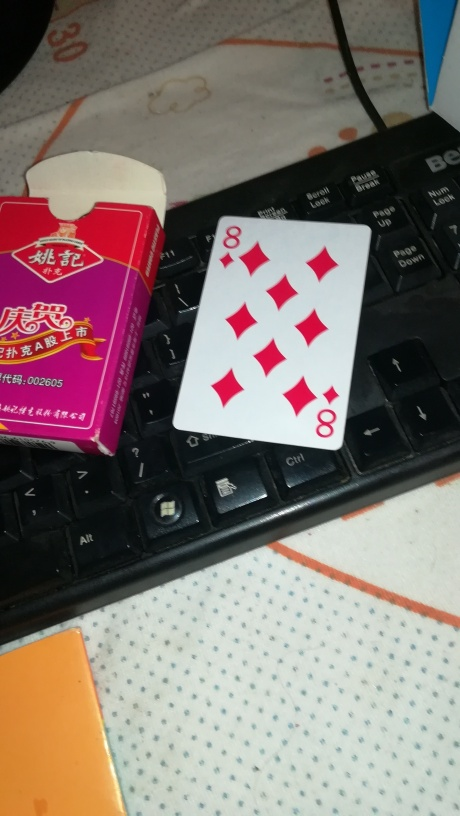fk 8: (170, 214, 371, 453)
